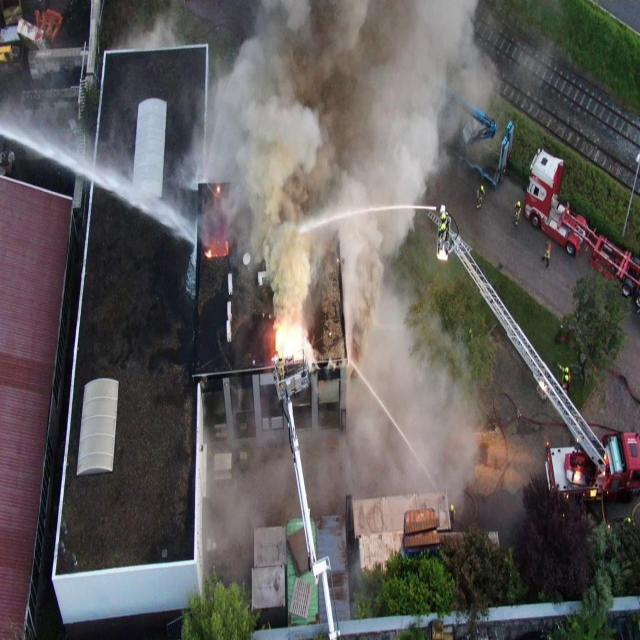Fire: (275, 324, 304, 362), (204, 249, 213, 259), (216, 186, 220, 193)
Smoke: (168, 0, 498, 554), (113, 0, 179, 52)
